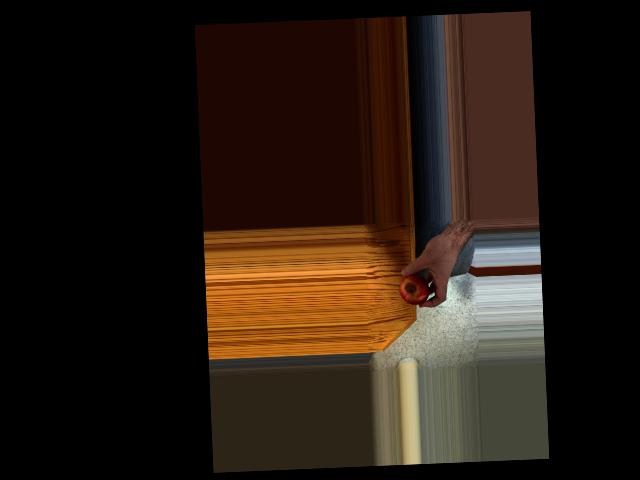apple: (396, 264, 435, 308)
